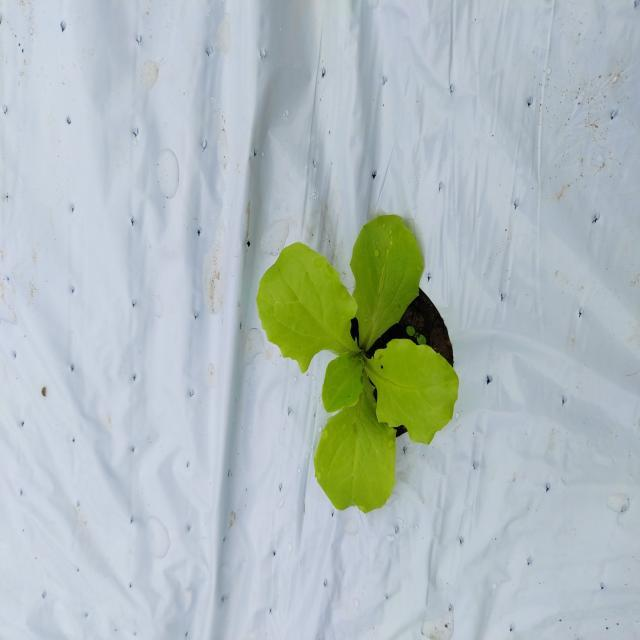Lettuce-Not-Ready-to-Harvest: (257, 212, 454, 516)
